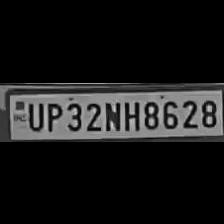2: (82, 98, 102, 132), (180, 96, 198, 128)
3: (64, 98, 82, 130)
6: (160, 97, 178, 129)
8: (140, 97, 158, 129), (199, 96, 217, 128)
H: (121, 97, 139, 130)
N: (103, 98, 121, 132)
P: (44, 99, 62, 131)
U: (25, 99, 43, 130)
